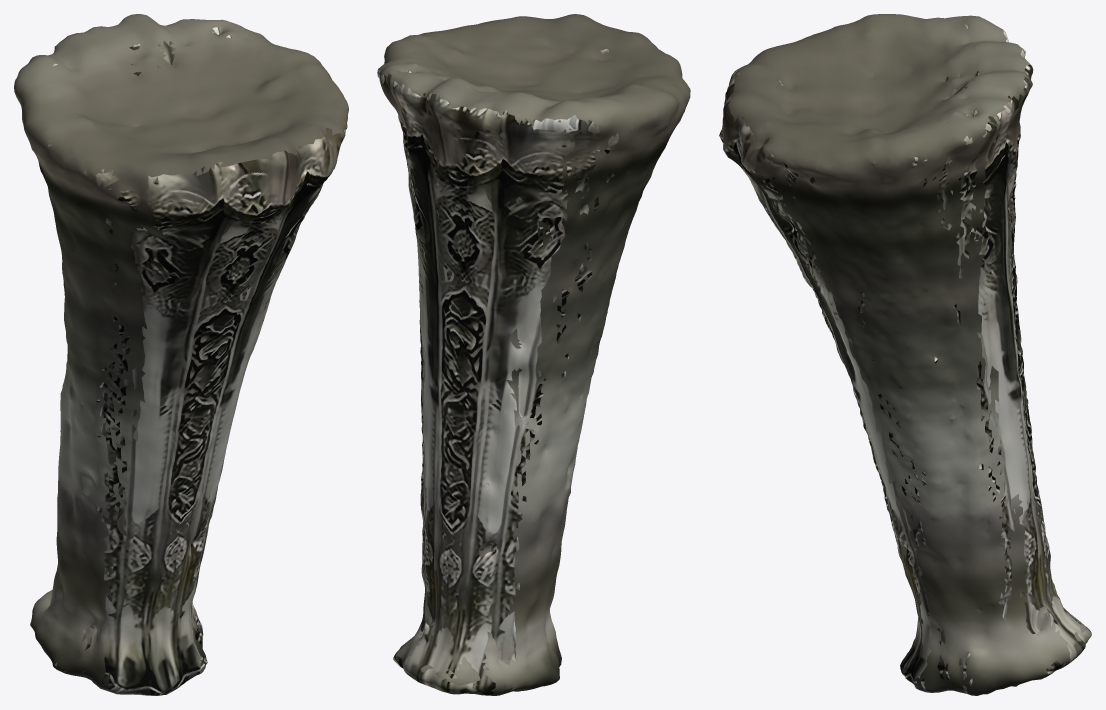
The model's file is kfl-2265.glb.
3 views of the same model, side by side, from view 1: azimuth 30°, elevation 25°; view 2: azimuth 150°, elevation 25°; view 3: azimuth 270°, elevation 25° (orthographic). The views are drawn at different scales.
Parts seen in each view (by area): view 1: kfl-2265; view 2: kfl-2265; view 3: kfl-2265.
Boxes of the visible parts, x1=… form: kfl-2265: x1=14, y1=14, x2=348, y2=695; kfl-2265: x1=377, y1=14, x2=690, y2=695; kfl-2265: x1=719, y1=14, x2=1091, y2=695.
Size of the model in its own units: 0.4804 by 0.9953 by 0.5424.
Materials: 3 (3 with a texture image).
